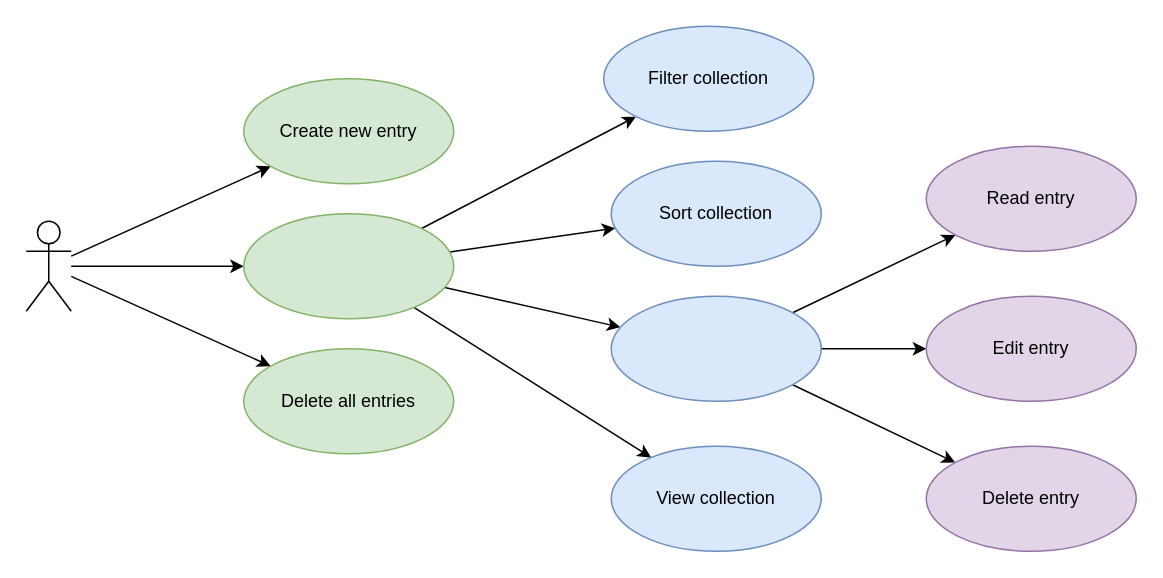
Some shapes in this 1163 by 578 pixel diagram are drawn without their labels. Each missing label, with the box of its shape:
Create collection of entries: (242, 212, 454, 319)
Pick entry from collection: (610, 295, 821, 401)
User: (25, 220, 71, 311)
